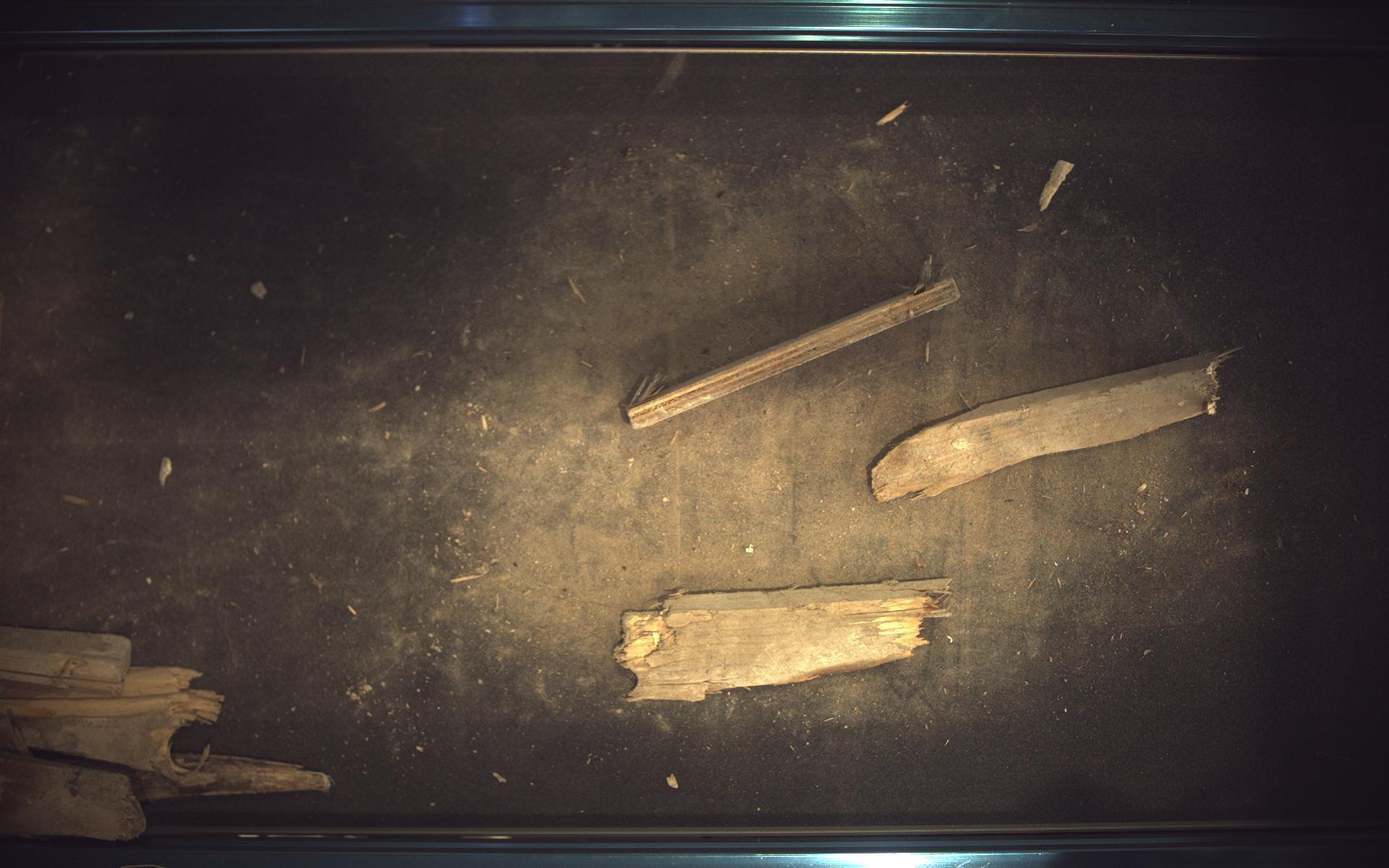wood: (874, 350, 1241, 502), (627, 278, 962, 429), (615, 579, 953, 702), (1, 690, 221, 780), (1, 755, 145, 842), (131, 756, 331, 802), (1, 628, 129, 683), (1, 668, 201, 699)
